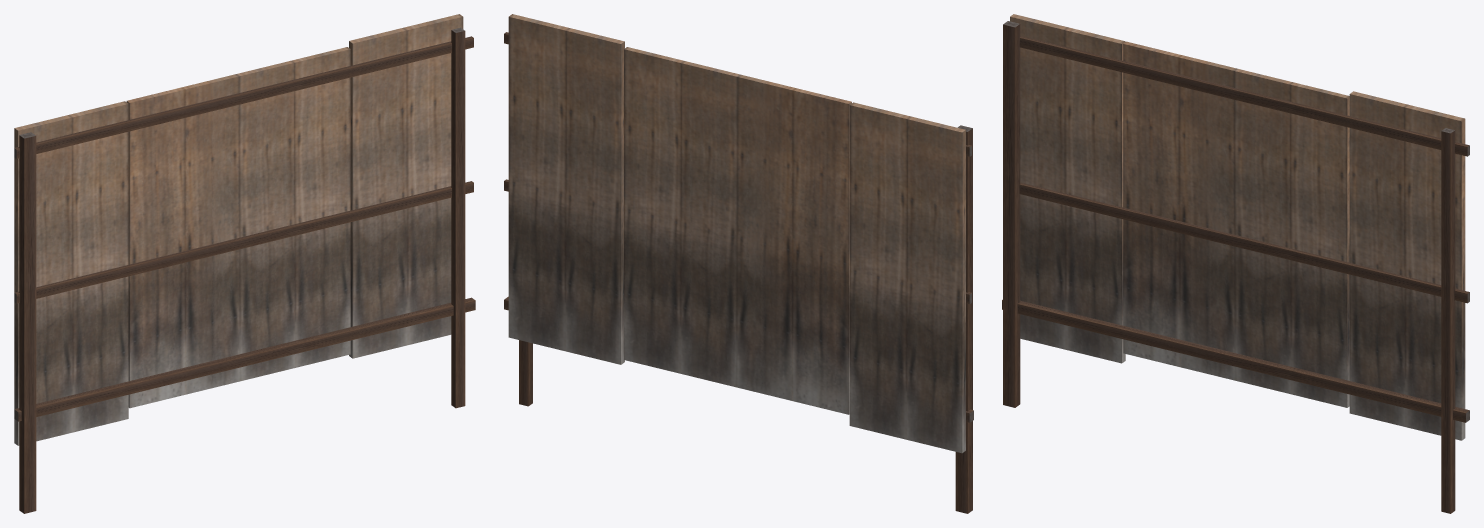
File: fence01a_1t.fbx
The picture shows the model from 3 angles, left to right: view 1: azimuth 30°, elevation 25°; view 2: azimuth 150°, elevation 25°; view 3: azimuth 330°, elevation 25°; orthographic projection.
Parts seen in each view (by area): view 1: fence01a_1t; view 2: fence01a_1t; view 3: fence01a_1t.
Part boxes in pixels (left/top/right/bottom): fence01a_1t: left=14, top=14, right=475, bottom=513; fence01a_1t: left=504, top=14, right=973, bottom=513; fence01a_1t: left=1002, top=14, right=1469, bottom=513.
Size of the model in its own units: 227 by 182 by 8.92.
